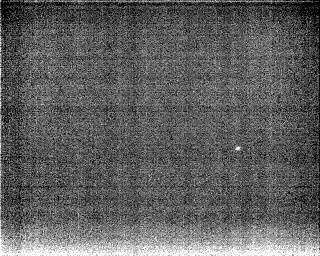AIRPLANE: (233, 143, 243, 153)
